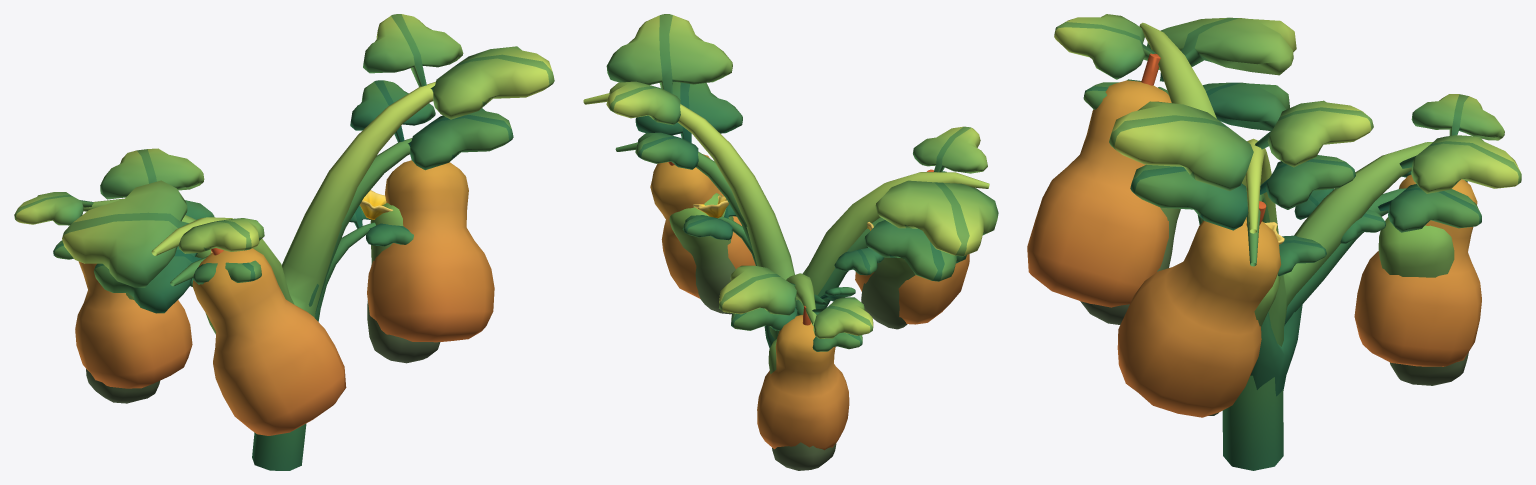
File: Loof.fbx
3 renders of one model, left to right at view 1: azimuth 30°, elevation 25°; view 2: azimuth 150°, elevation 25°; view 3: azimuth 270°, elevation 25°, orthographic. The views are drawn at different scales.
Parts seen in each view (by area): view 1: LV3Loo, LV2Loo, LV1Loo; view 2: LV3Loo, LV2Loo, LV1Loo; view 3: LV3Loo, LV2Loo, LV1Loo.
Part boxes in pixels (left/top/right/bottom): LV3Loo: left=14, top=14, right=554, bottom=470; LV2Loo: left=53, top=80, right=513, bottom=403; LV1Loo: left=190, top=190, right=413, bottom=321; LV3Loo: left=583, top=14, right=998, bottom=450; LV2Loo: left=615, top=81, right=966, bottom=470; LV1Loo: left=682, top=195, right=884, bottom=348; LV3Loo: left=1027, top=14, right=1521, bottom=470; LV2Loo: left=1080, top=79, right=1481, bottom=415; LV1Loo: left=1197, top=189, right=1385, bottom=396.
Size of the model in its own units: 1.07 by 0.8635 by 0.8539.
